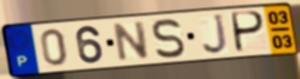0: (38, 27, 72, 68)
6: (75, 25, 106, 66)
J: (201, 12, 231, 56)
N: (112, 19, 151, 64)
P: (231, 10, 267, 55)
S: (151, 17, 187, 60)
